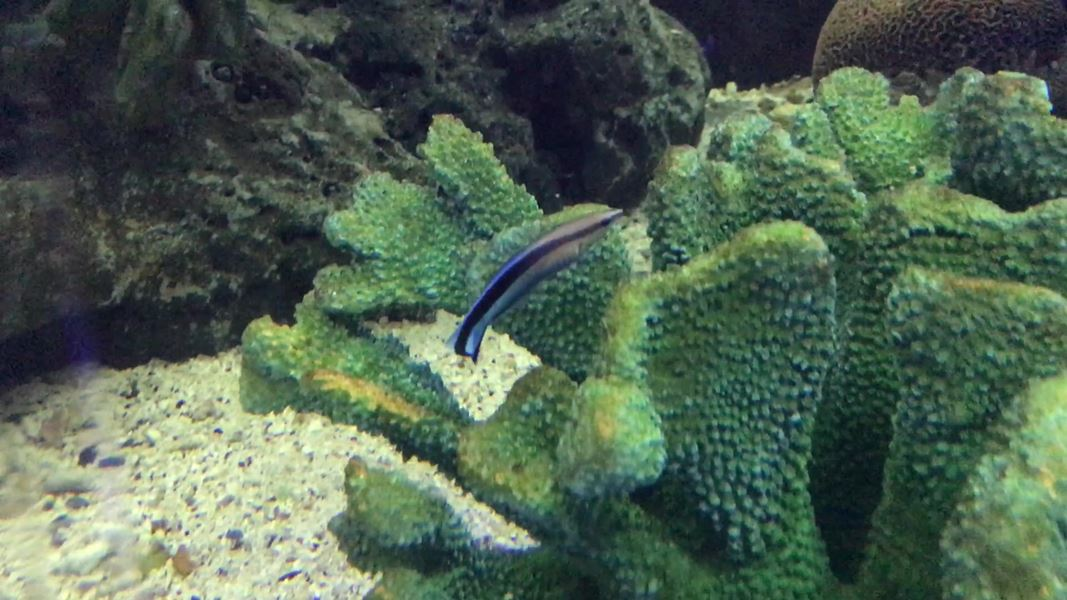Bluesteak cleaner wrasse: (434, 200, 635, 367)
